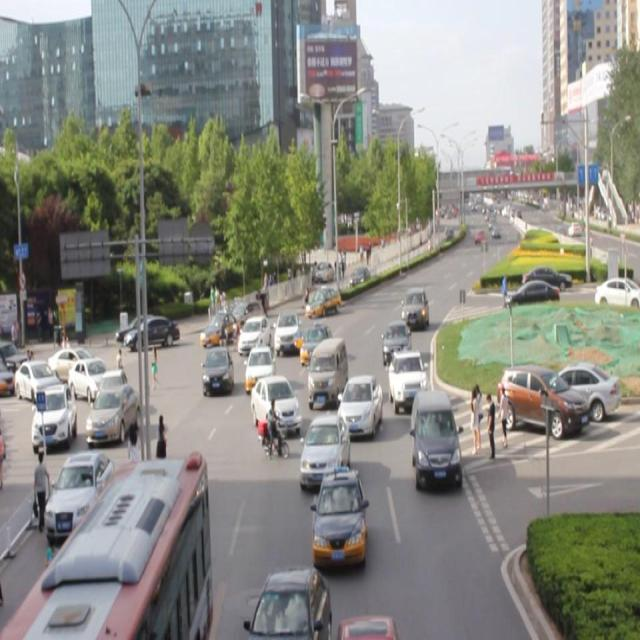car: (251, 565, 329, 640), (409, 387, 460, 488), (313, 470, 366, 566), (300, 415, 349, 488), (250, 376, 300, 438), (336, 375, 380, 438), (387, 347, 425, 412), (339, 609, 395, 640), (304, 316, 338, 362), (274, 307, 304, 357), (202, 346, 233, 392), (381, 320, 412, 366), (245, 345, 275, 392), (311, 279, 348, 315), (400, 287, 430, 330), (238, 316, 270, 356)
truck: (307, 339, 347, 402)
van: (11, 452, 208, 640)
